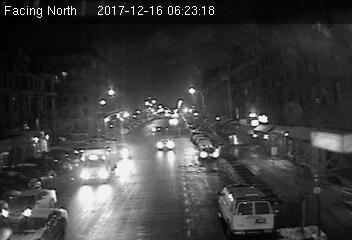car: (2, 180, 57, 223), (155, 138, 177, 152), (200, 146, 220, 161)
police: (216, 182, 275, 236)
truck: (82, 143, 120, 181)
